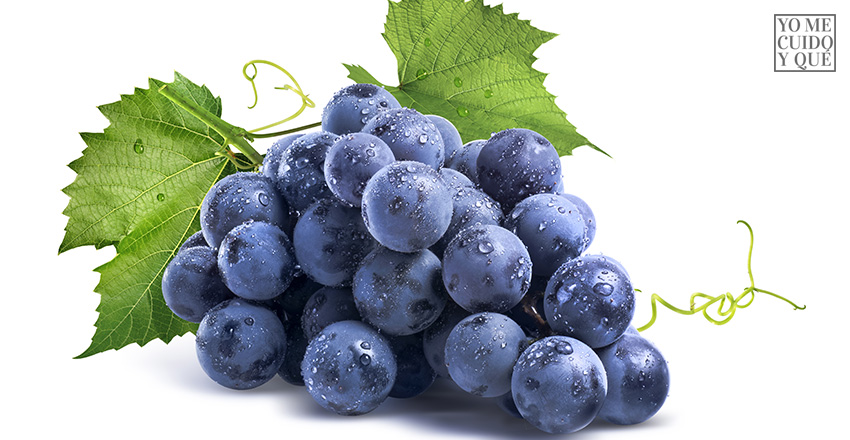Black grapes: (134, 73, 681, 426)
